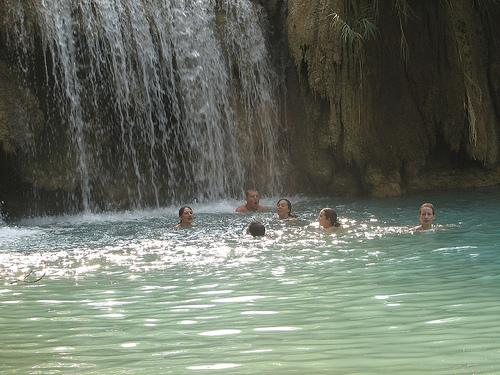swimmer: (413, 202, 438, 233), (238, 188, 269, 210), (272, 197, 298, 222), (316, 204, 341, 230), (174, 201, 198, 227), (244, 218, 266, 237)
